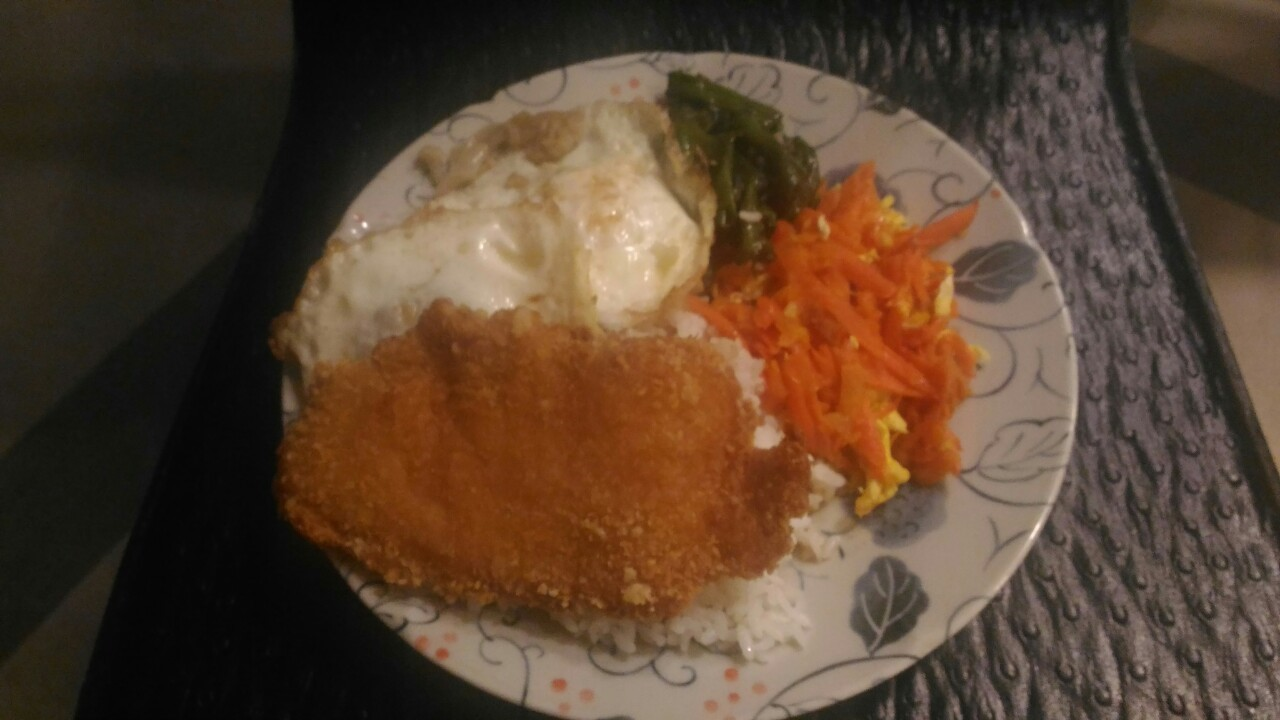carrot_eggs: (736, 167, 962, 482)
fried_chicken: (282, 302, 808, 615)
fried_eggs: (299, 106, 703, 324)
rice: (683, 571, 806, 655)
